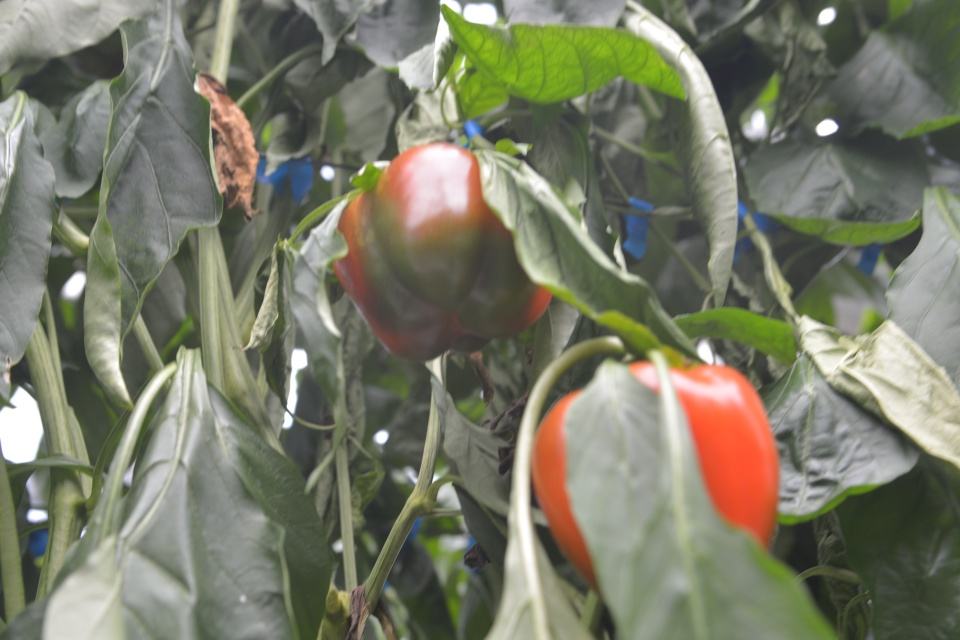fruit: (529, 355, 782, 597), (328, 139, 553, 364)
